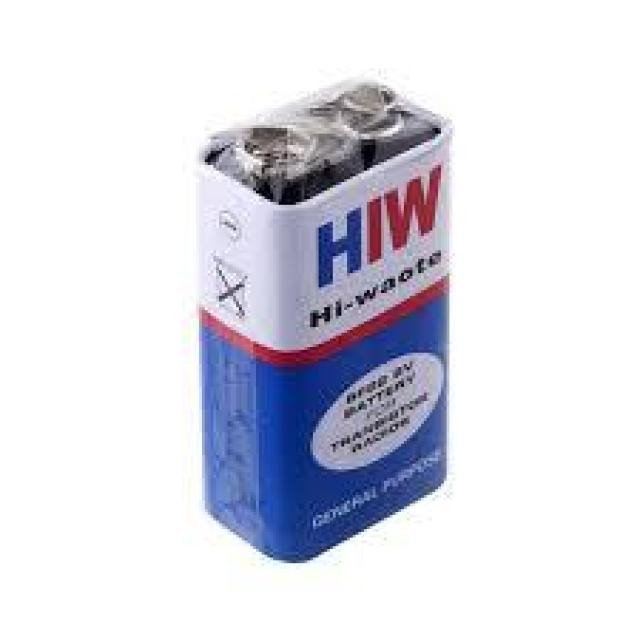9V: (186, 62, 468, 572)
